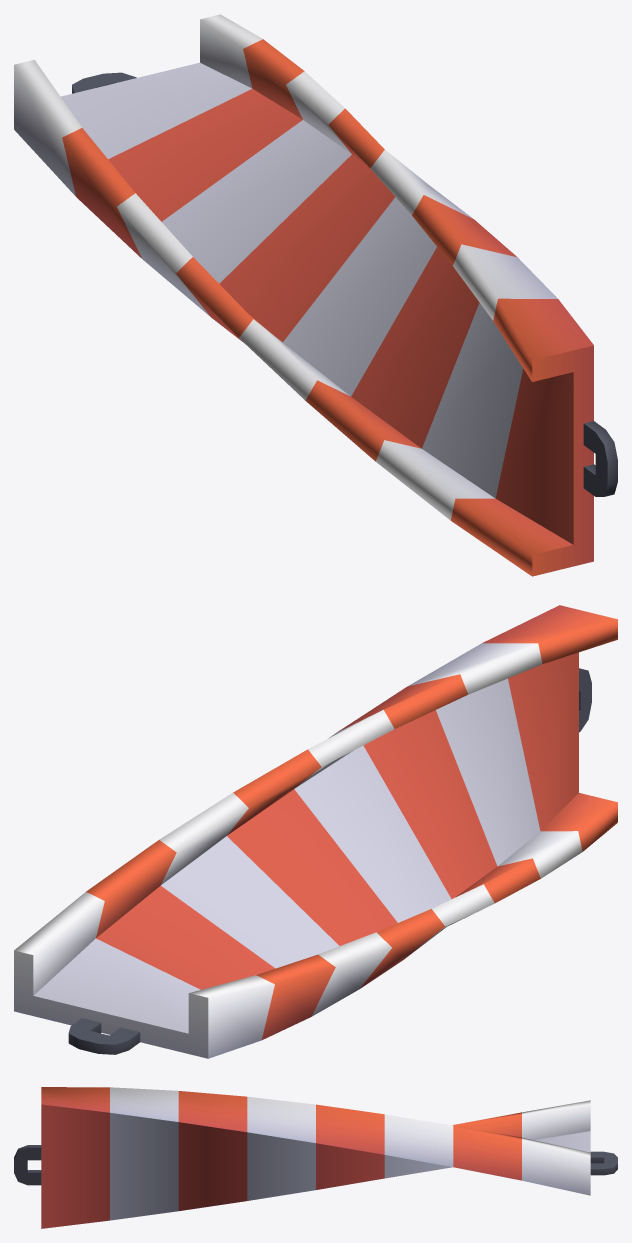
File: kenney-toy-car-track-striped-narrow-straight-skew-right-side.glb
3 views of the same model, one above another, from view 1: azimuth 30°, elevation 25°; view 2: azimuth 150°, elevation 25°; view 3: azimuth 270°, elevation 25° (orthographic). The views are drawn at different scales.
Parts seen in each view (by area): view 1: track-striped-narrow-straight-skew-right-side; view 2: track-striped-narrow-straight-skew-right-side; view 3: track-striped-narrow-straight-skew-right-side.
Part boxes in pixels (bbox=[...]): track-striped-narrow-straight-skew-right-side: bbox=[14, 14, 617, 576]; track-striped-narrow-straight-skew-right-side: bbox=[14, 605, 617, 1058]; track-striped-narrow-straight-skew-right-side: bbox=[14, 1087, 617, 1228].
Bounding box in the file's own units: 1.08 × 1.08 × 4.4.
Materials: 1 (1 with a texture image).
